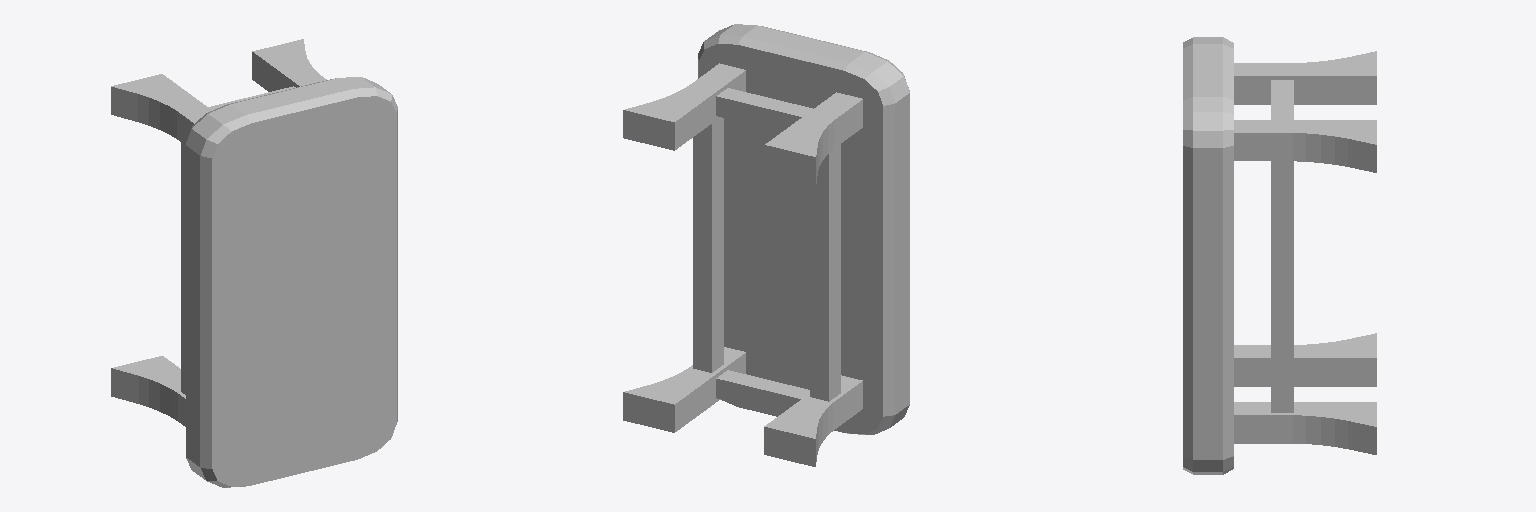
The model's file is Environment_Bench.obj.
3 views of the same model, side by side, from view 1: azimuth 30°, elevation 25°; view 2: azimuth 150°, elevation 25°; view 3: azimuth 270°, elevation 25° (orthographic).
Parts seen in each view (by area): view 1: Environment_Bench_Cylinder.020; view 2: Environment_Bench_Cylinder.020; view 3: Environment_Bench_Cylinder.020.
Boxes of the visible parts, box(x1,y1,x2,y2) form: Environment_Bench_Cylinder.020: box(111, 39, 397, 487); Environment_Bench_Cylinder.020: box(623, 24, 909, 466); Environment_Bench_Cylinder.020: box(1183, 37, 1376, 474).
Bounding box in the file's own units: 0.8757 × 1.57 × 0.7442.